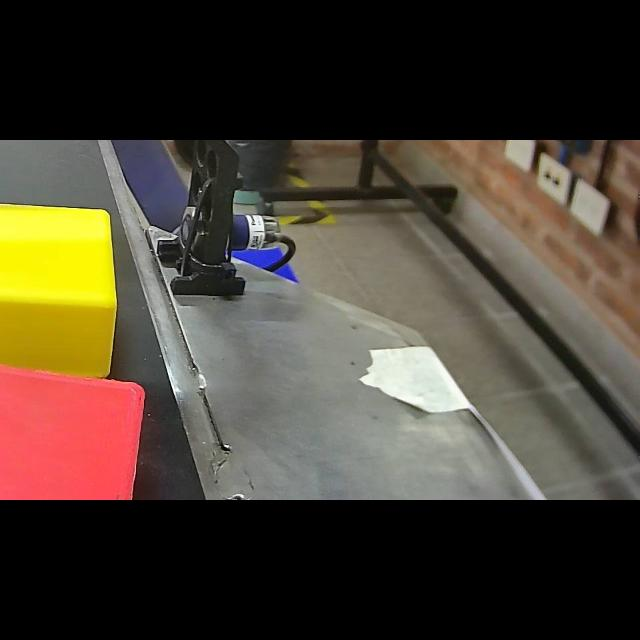redBox: (1, 354, 158, 500)
yellowBox: (0, 186, 134, 390)
